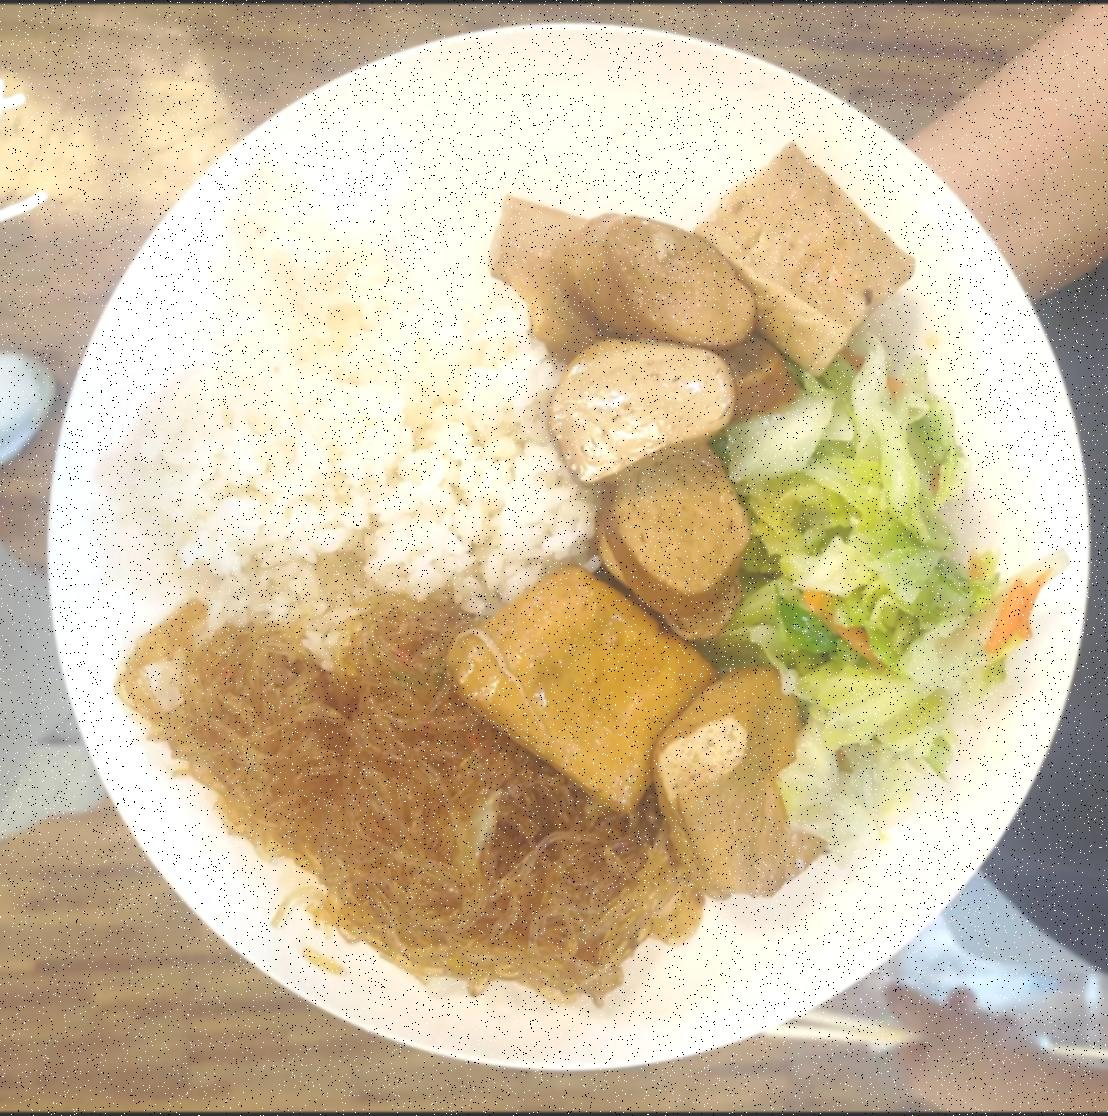plate: (45, 15, 1082, 1071)
side dish: (102, 600, 682, 1014), (506, 159, 921, 580), (720, 360, 1038, 814), (467, 564, 831, 889)
white rice: (98, 169, 594, 626)
